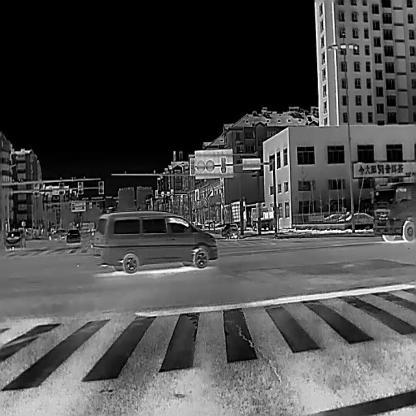car: (92, 210, 218, 273), (373, 180, 415, 242), (223, 200, 246, 228), (248, 207, 273, 229), (4, 229, 26, 250), (338, 211, 373, 221), (220, 222, 240, 238), (65, 229, 81, 245), (47, 229, 67, 240), (324, 212, 341, 220), (82, 221, 94, 231), (192, 221, 202, 228)
